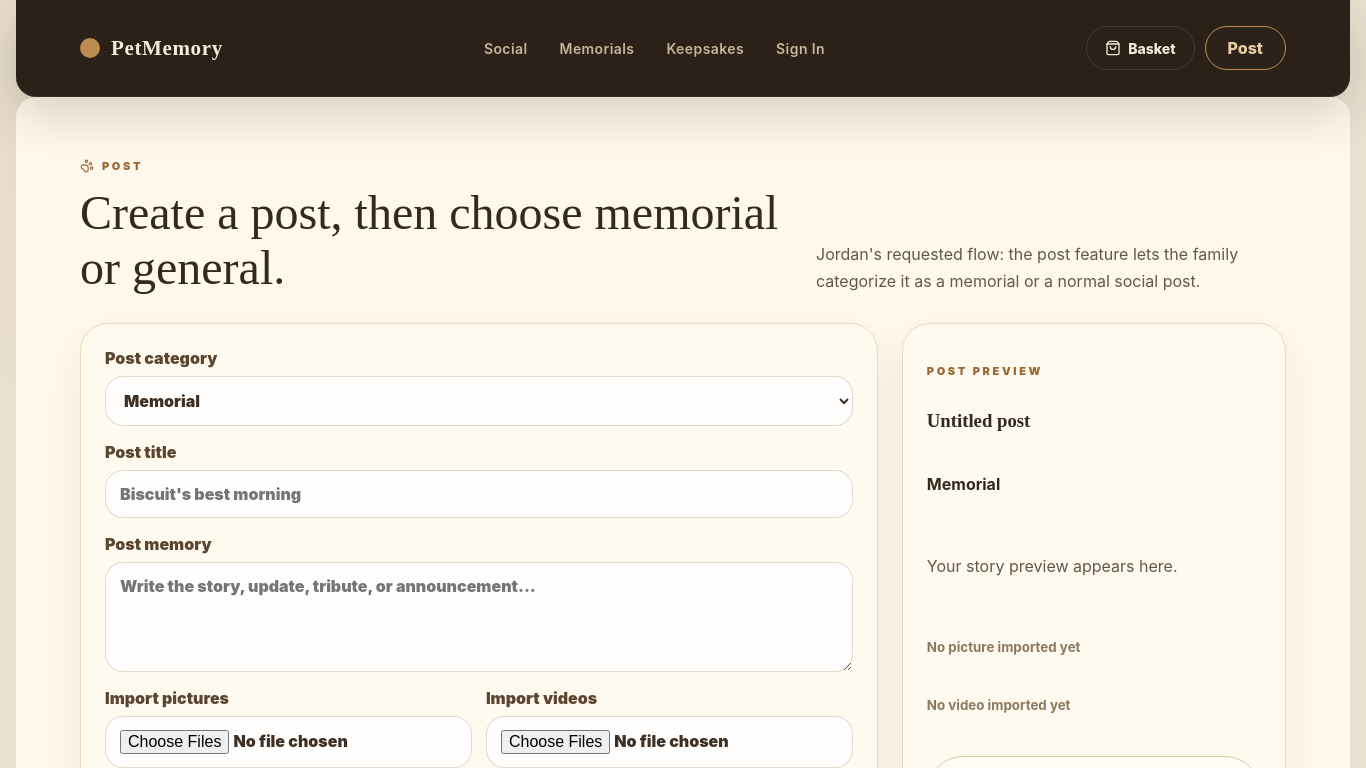
Scenario: PetMemory deeplinked pages › post page categorizes content as memorial or general post
Expected: the heading "Create a post, then choose memorial or general." is shown, [80,185,792,295]
Step 1. Select "General post" in the dropdown labelled "Post category" → (479, 401), box [105,376,853,426]
(page scrolled)
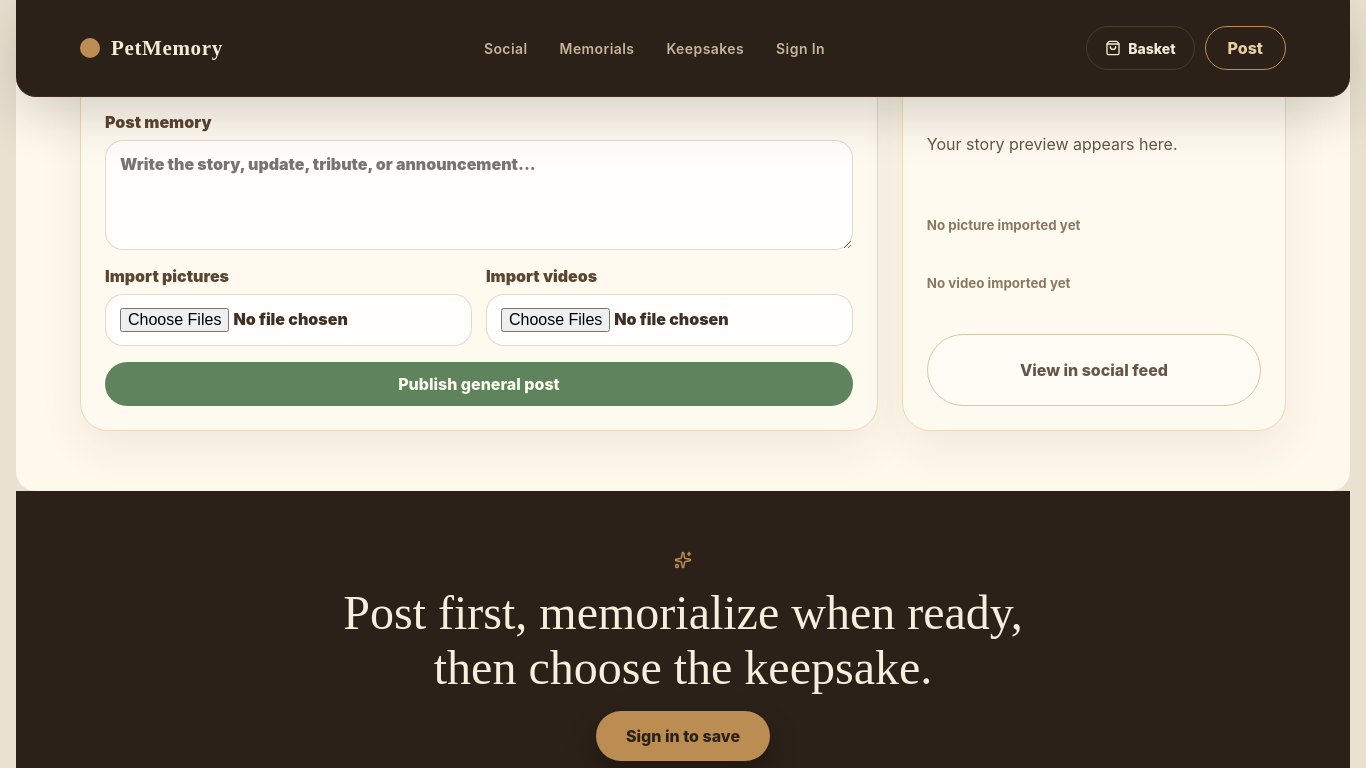
Expected: the button "Publish general post" is shown, [105,362,853,406]
